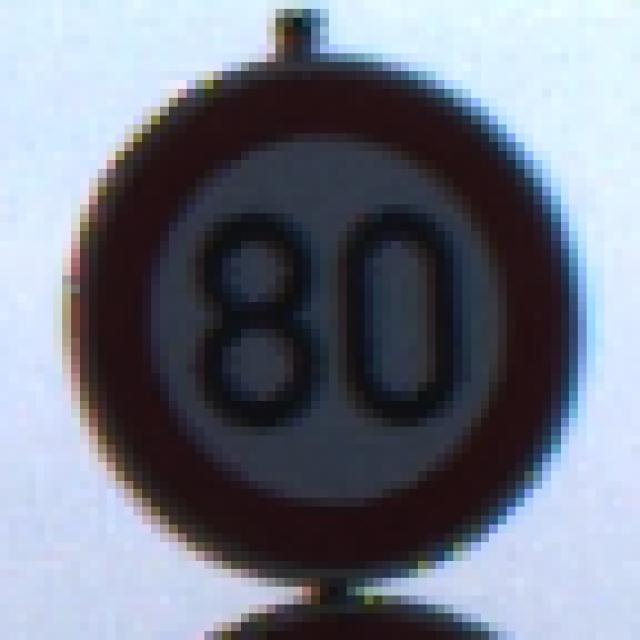Ograniczenie predkosci do 80: (87, 59, 574, 582)
